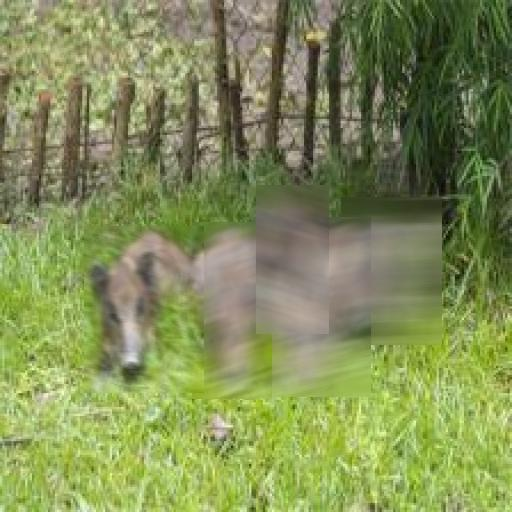Pig: (254, 217, 371, 397), (84, 226, 204, 393), (341, 197, 442, 345), (192, 222, 272, 399), (256, 185, 329, 334)
